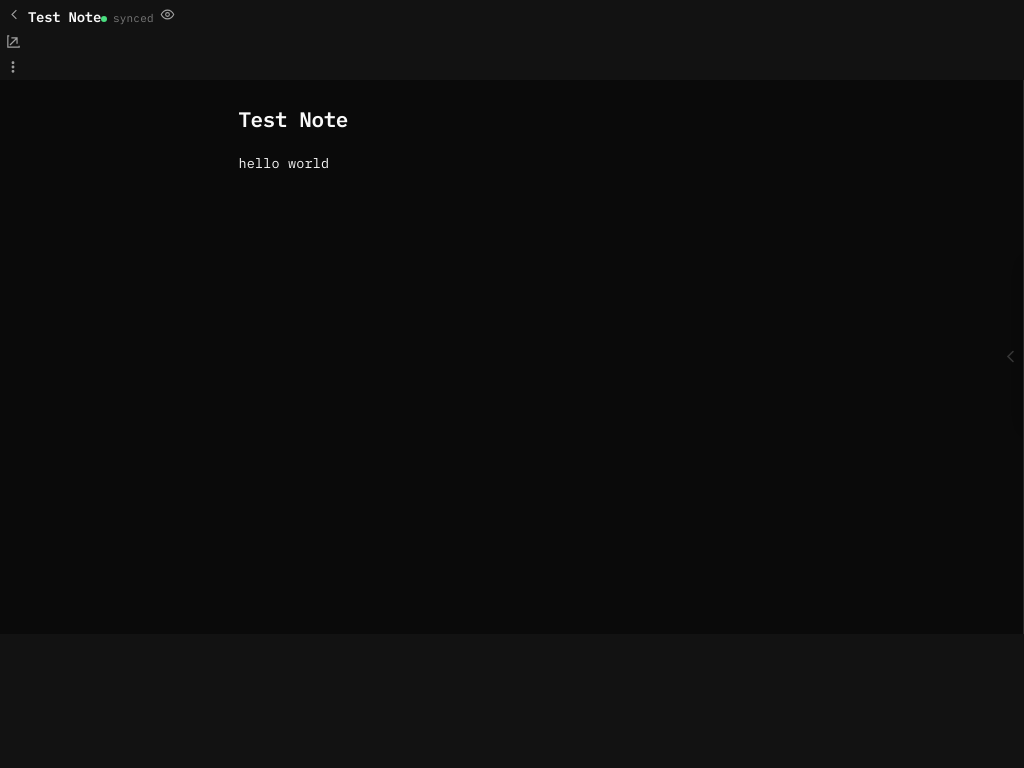
NoteEditor — Escape precedence › closes the corner menu first, without unlocking or closing the drawer/editor
Expected: the button named "Back" is shown, [0,0,28,28]
Expected: the heading "Test Note" is shown, [238,105,348,133]
Click the button named "More" at (13, 67), box [0,54,26,80]
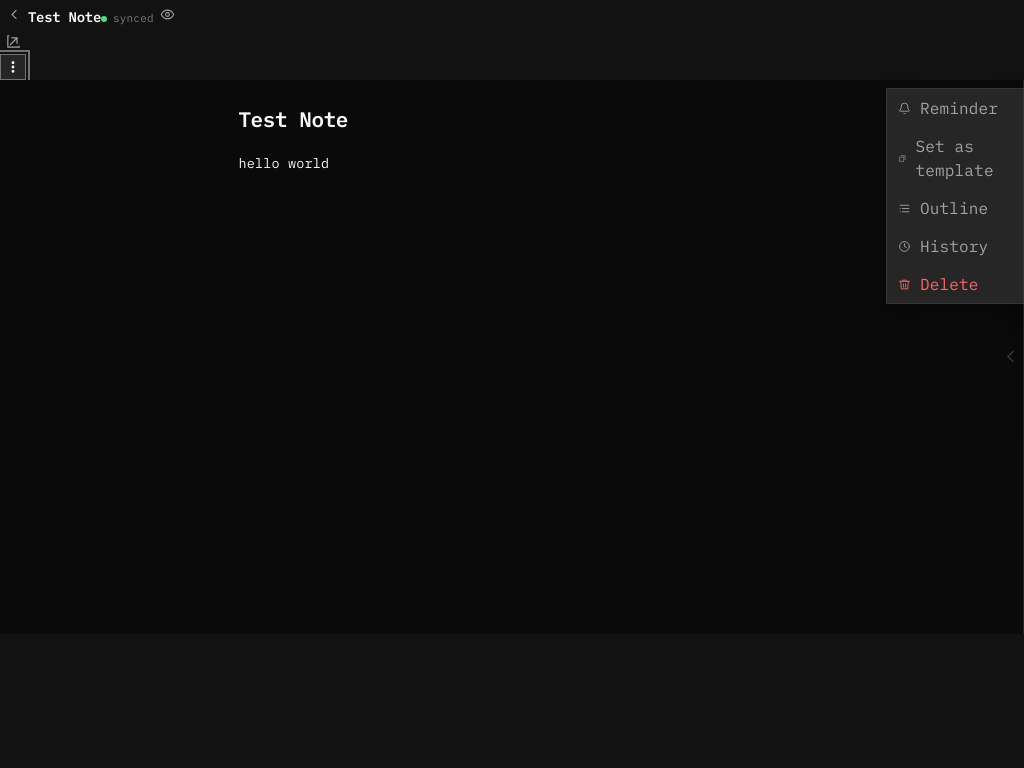
Expected: the button named "More" is expanded, [0,54,26,80]
Press Escape
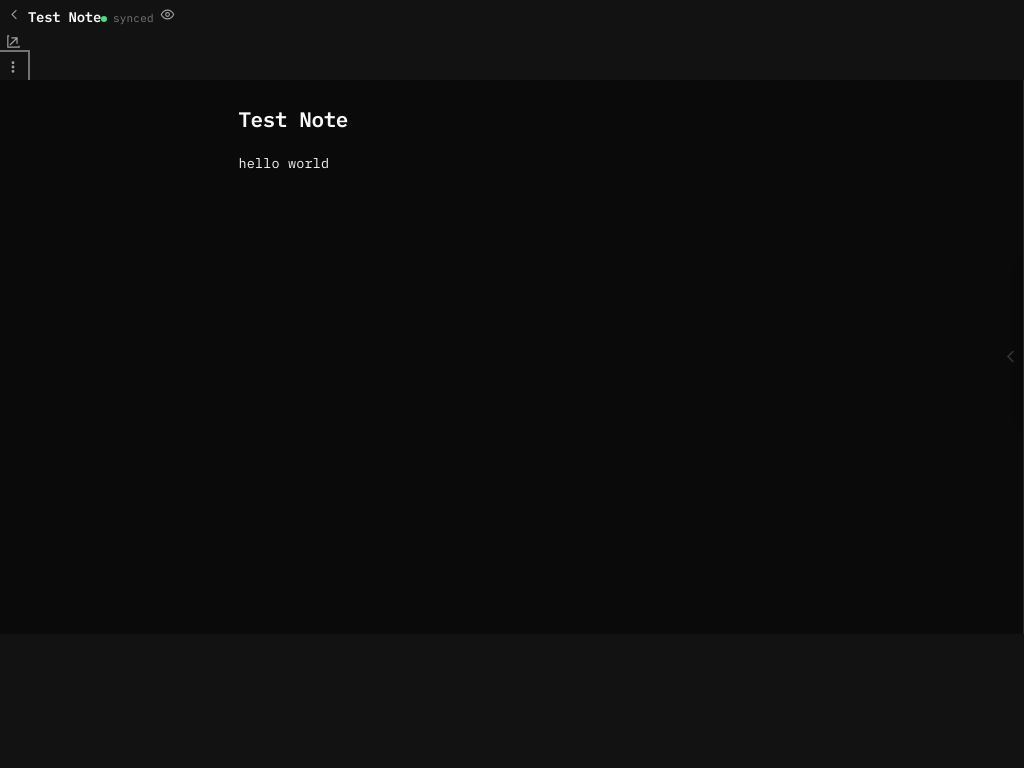
Expected: the button named "More" is collapsed, [0,54,26,80]
